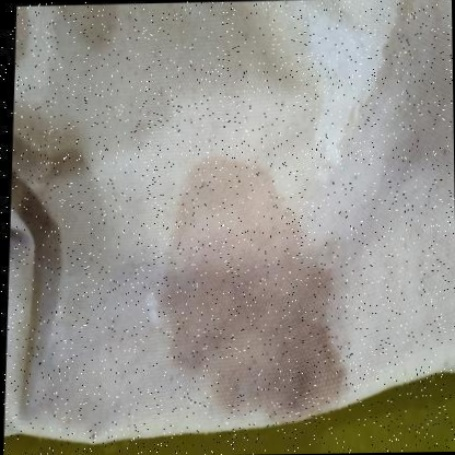coffee: (187, 224, 306, 380)
